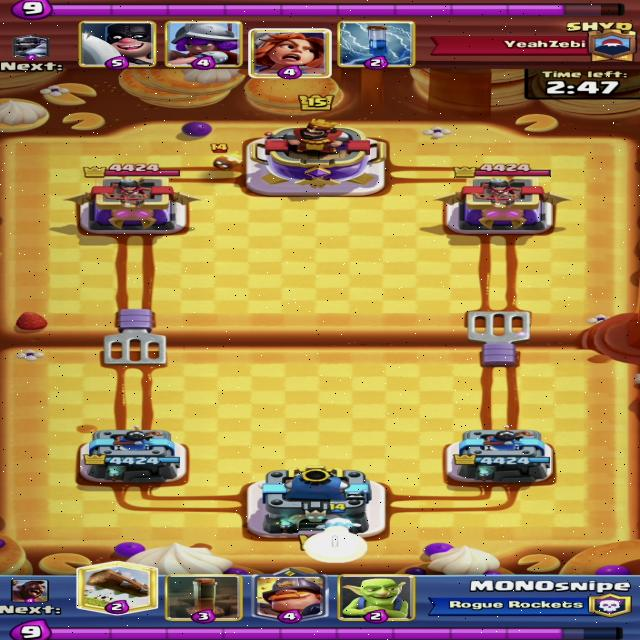Enemy-FireSpirit: (209, 143, 241, 174)
Player-IceSpirit: (314, 504, 362, 536)
